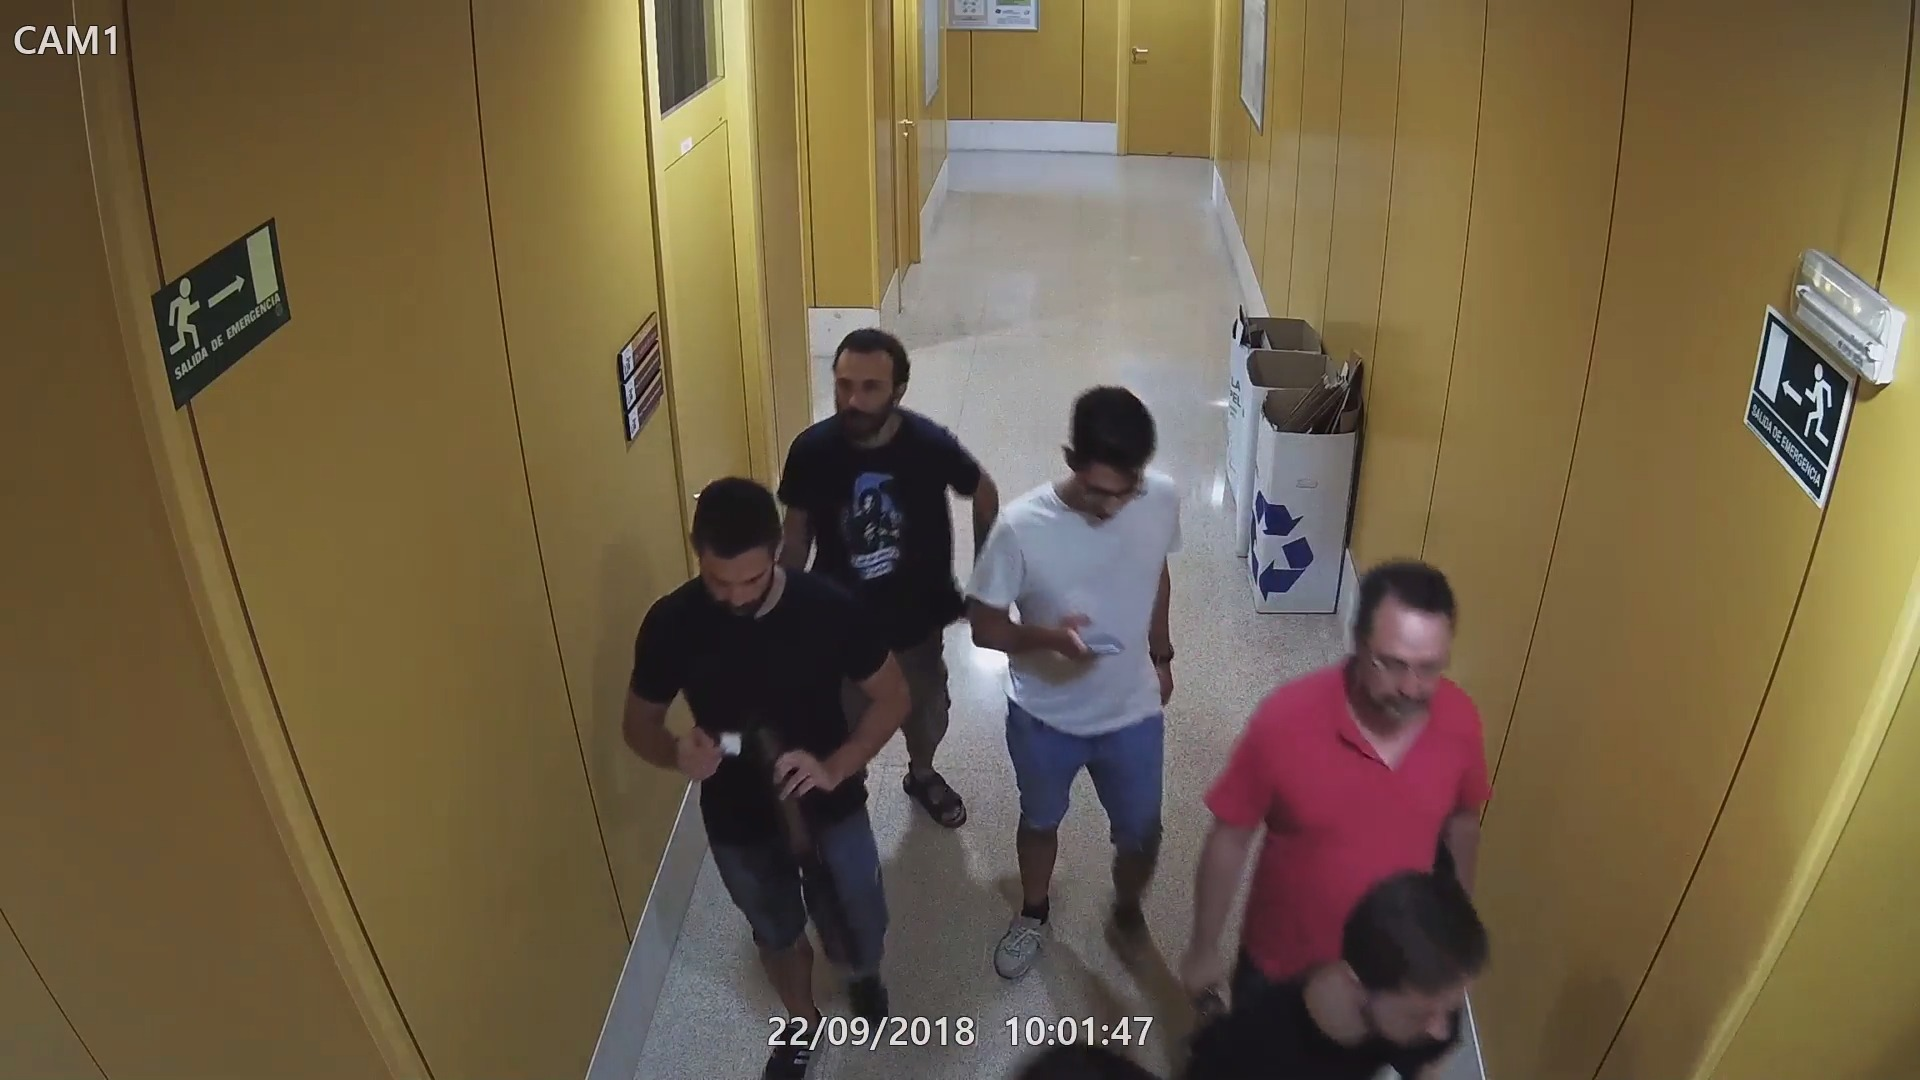Handgun: (1172, 953, 1232, 1048)
Short_rifle: (731, 721, 822, 895)
